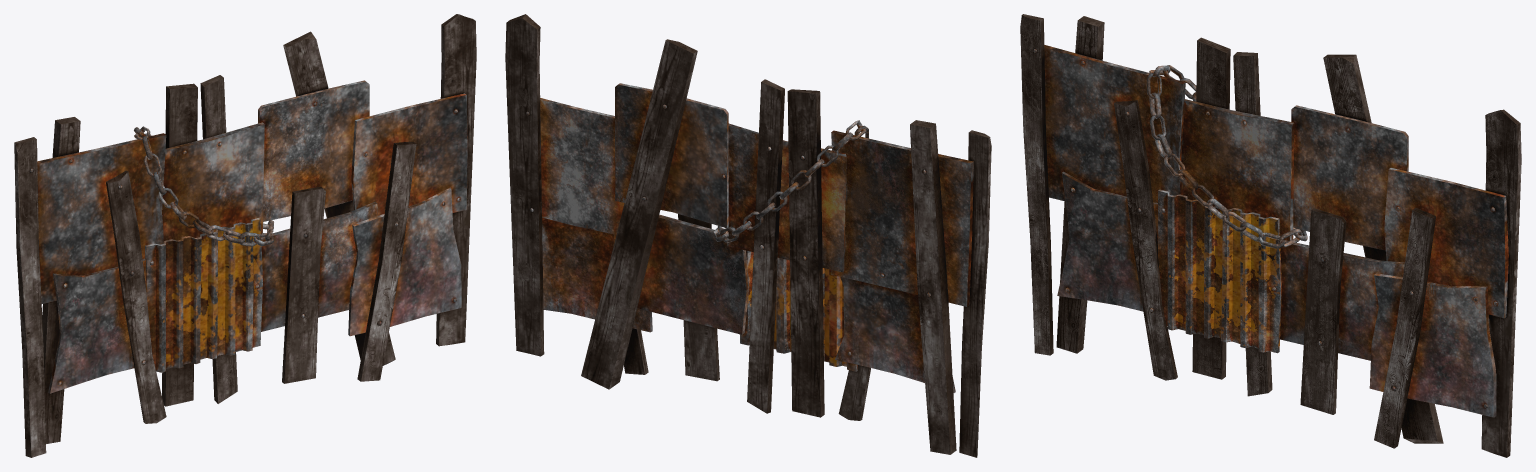
The model's file is rusty_fence.glb.
The picture shows the model from 3 angles, left to right: view 1: azimuth 30°, elevation 25°; view 2: azimuth 150°, elevation 25°; view 3: azimuth 330°, elevation 25°; orthographic projection. The views are drawn at different scales.
Parts seen in each view (by area): view 1: Plane.004, Plane.014, Plane.007, Torus.002; view 2: Plane.004, Plane.014, Plane.007, Torus.002; view 3: Plane.004, Plane.014, Plane.007, Torus.002.
Part boxes in pixels (x1,y1,x2,y2): Plane.004: [37, 80, 467, 393]; Plane.014: [14, 14, 476, 457]; Plane.007: [145, 218, 262, 372]; Torus.002: [134, 126, 273, 246]; Plane.004: [540, 83, 973, 393]; Plane.014: [505, 14, 991, 457]; Plane.007: [739, 250, 857, 371]; Torus.002: [713, 120, 868, 243]; Plane.004: [1044, 45, 1508, 417]; Plane.014: [1020, 14, 1521, 457]; Plane.007: [1158, 189, 1281, 353]; Torus.002: [1146, 65, 1307, 248].
Size of the model in its own units: 2.66 by 1.94 by 0.3354.
4 materials, 4 textured.
